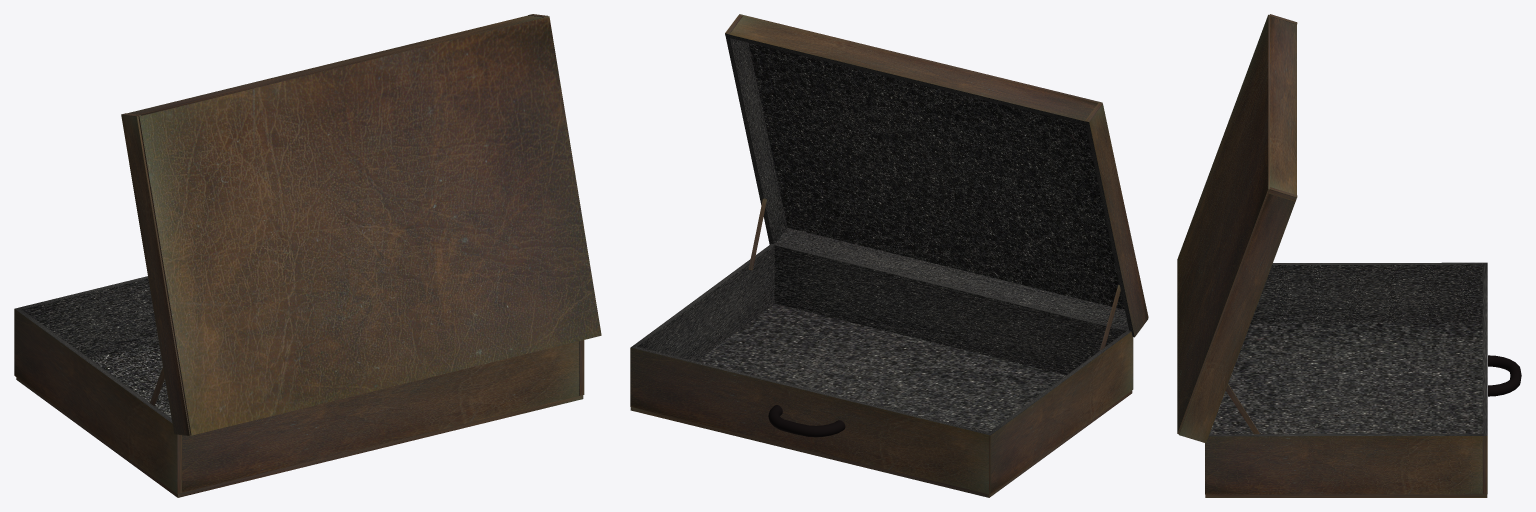
File: suitcase.fbx
3 renders of one model, left to right at view 1: azimuth 30°, elevation 25°; view 2: azimuth 150°, elevation 25°; view 3: azimuth 270°, elevation 25°, orthographic. The views are drawn at different scales.
Parts seen in each view (by area): view 1: Upper, Lower; view 2: Upper, Lower, Connector; view 3: Lower, Upper.
Boxes of the visible parts, left/top/right/bottom form: Upper: left=121, top=14, right=601, bottom=435; Lower: left=14, top=276, right=584, bottom=497; Upper: left=725, top=14, right=1148, bottom=337; Lower: left=630, top=243, right=1133, bottom=497; Connector: left=748, top=198, right=1120, bottom=350; Lower: left=1205, top=262, right=1521, bottom=497; Upper: left=1177, top=14, right=1297, bottom=443.
Bounding box in the file's own units: 1.48 × 1.22 × 1.23.
Materials: 3 (2 with a texture image).
